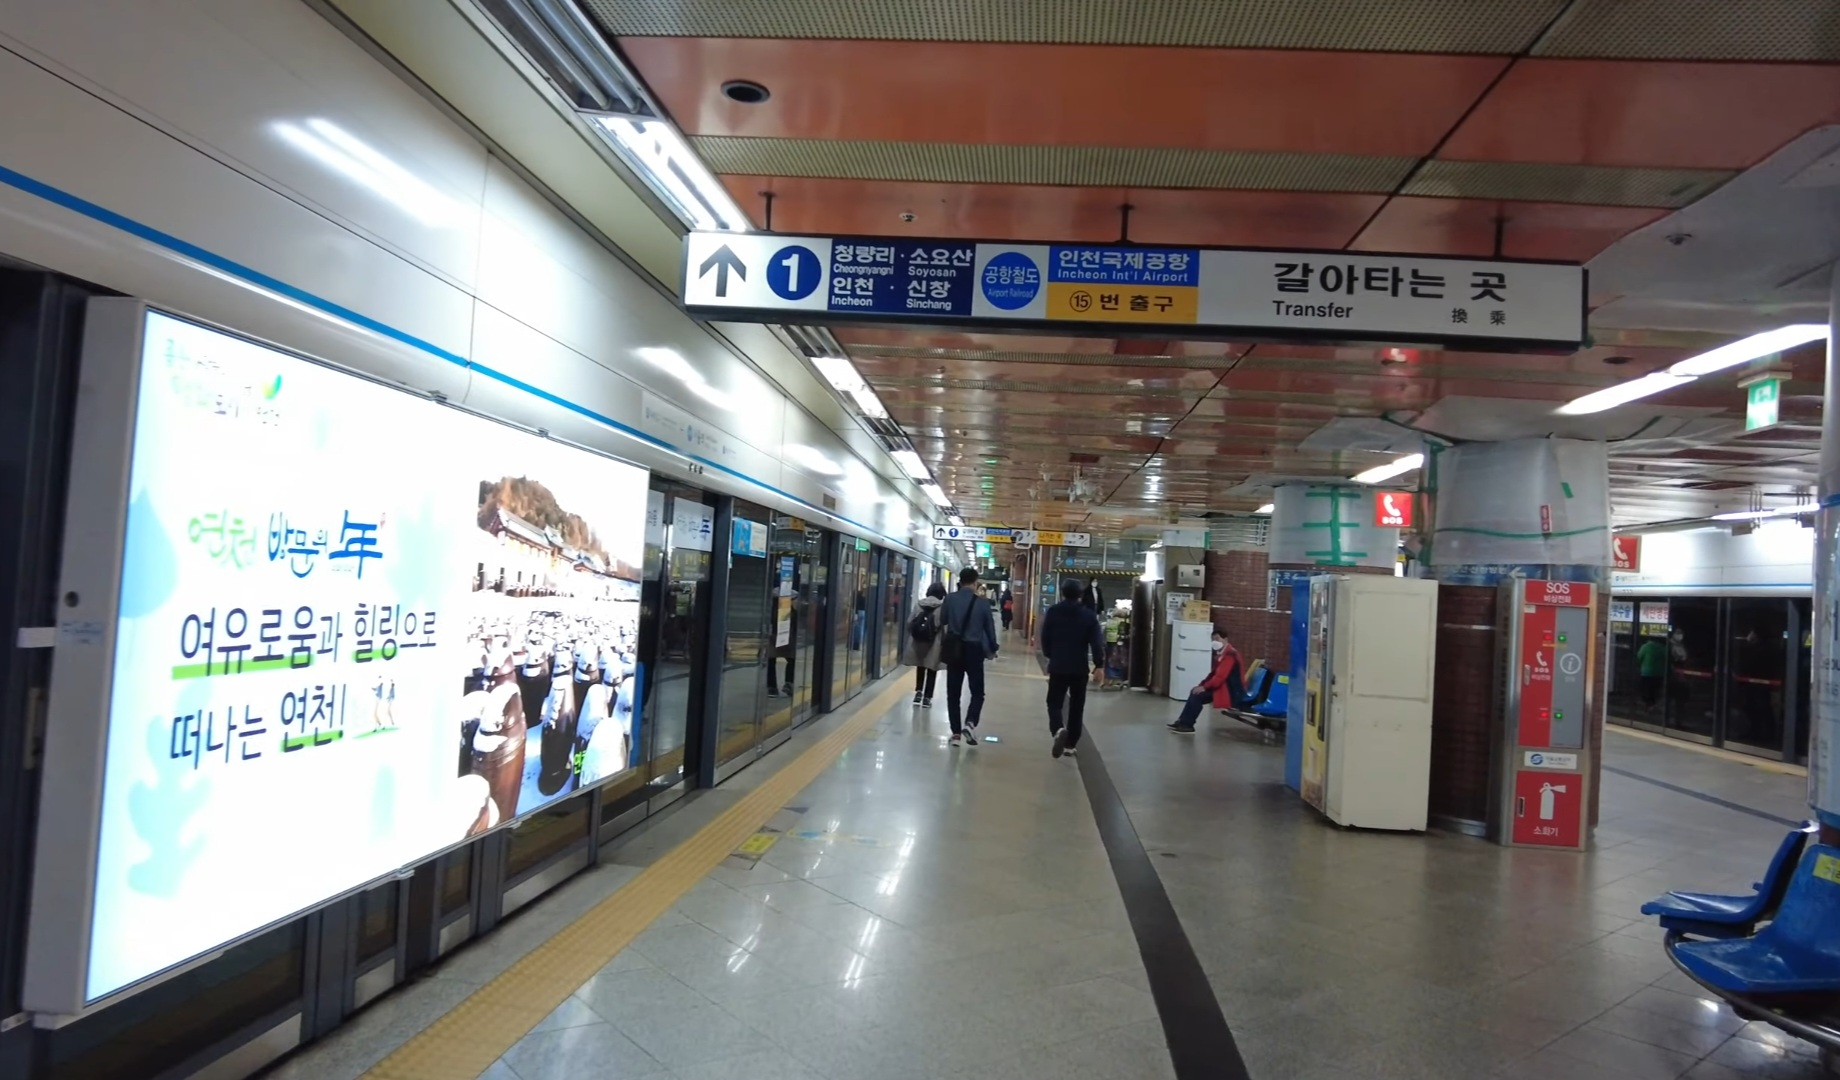signBoard: (678, 228, 1591, 356)
